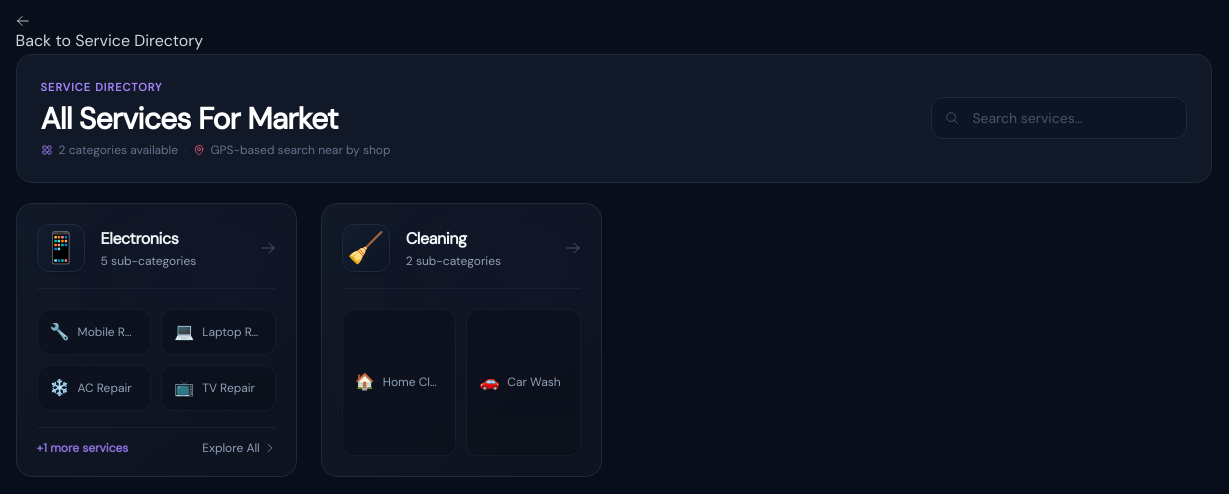
it: AllServices Page › filters categories based on category name search
Type "Elect" into the field with placeholder "Search services…" at (1059, 118), box [931,97,1187,139]
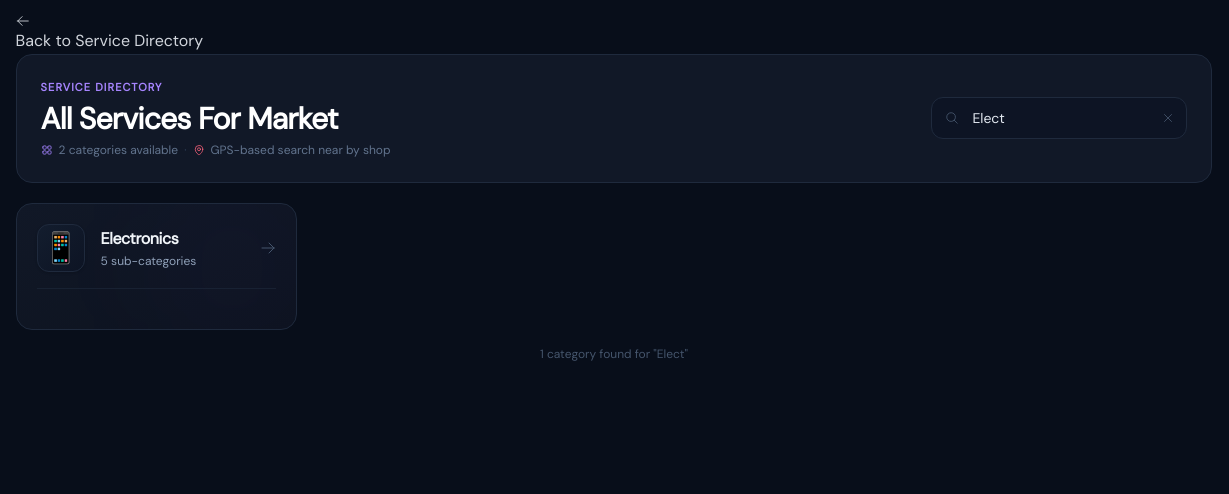
Check: the heading "Electronics" is shown, box [101,228,178,249]
Check: the heading "Cleaning" is gone
